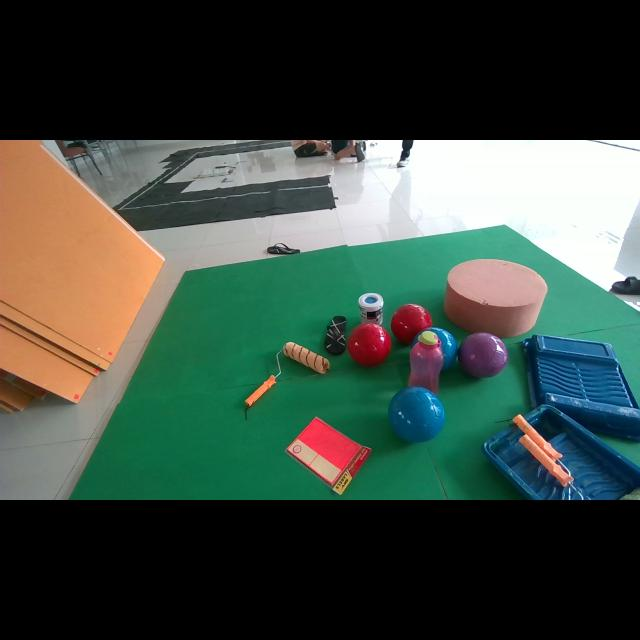B: (388, 386, 445, 442)
P: (459, 332, 509, 377)
R: (346, 322, 391, 366), (391, 304, 432, 344)
